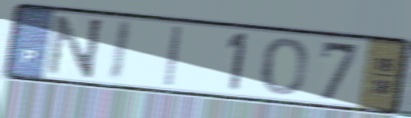1: (224, 30, 249, 93)
7: (318, 39, 360, 103)
I: (106, 18, 135, 84), (162, 24, 185, 89)
N: (45, 13, 106, 80)
O: (259, 35, 310, 97)
